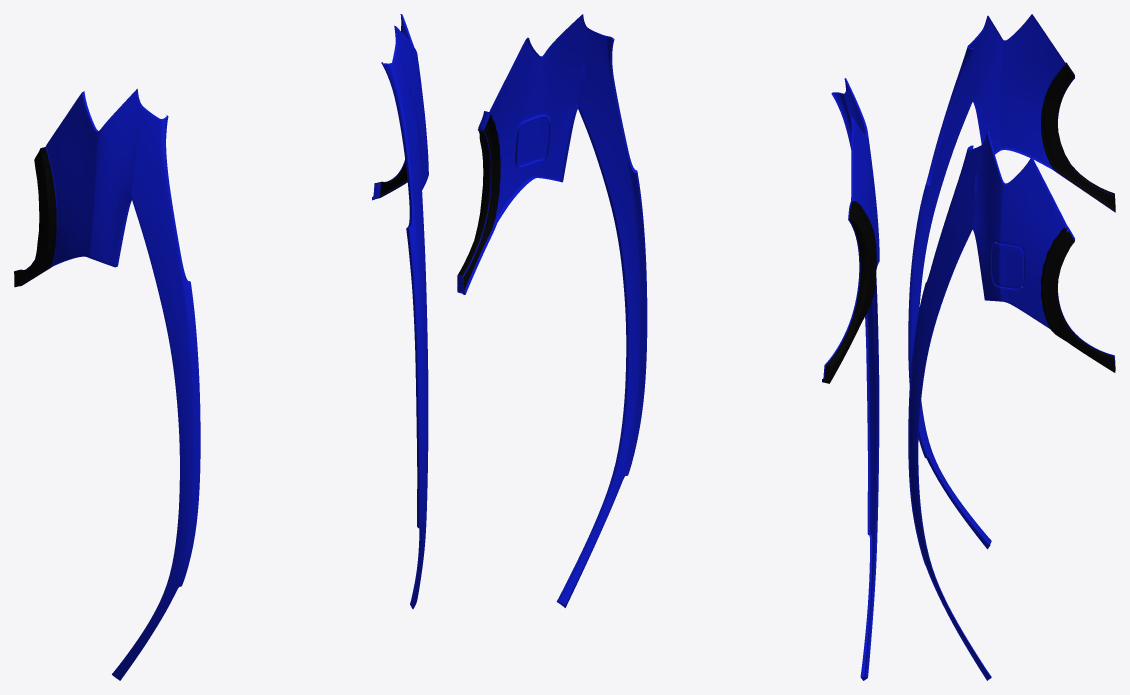
The model's file is body_04.obj.
3 renders of one model, left to right at view 1: azimuth 30°, elevation 25°; view 2: azimuth 150°, elevation 25°; view 3: azimuth 270°, elevation 25°, orthographic. The views are drawn at different scales.
Visible parts, largest first — view 1: body_04; view 2: body_04; view 3: body_04.
Part boxes in pixels (x1,y1,x2,y2): body_04: [14, 14, 428, 680]; body_04: [457, 14, 879, 680]; body_04: [908, 14, 1115, 680].
Bounding box in the file's own units: 4.81 × 7.15 × 2.48.
